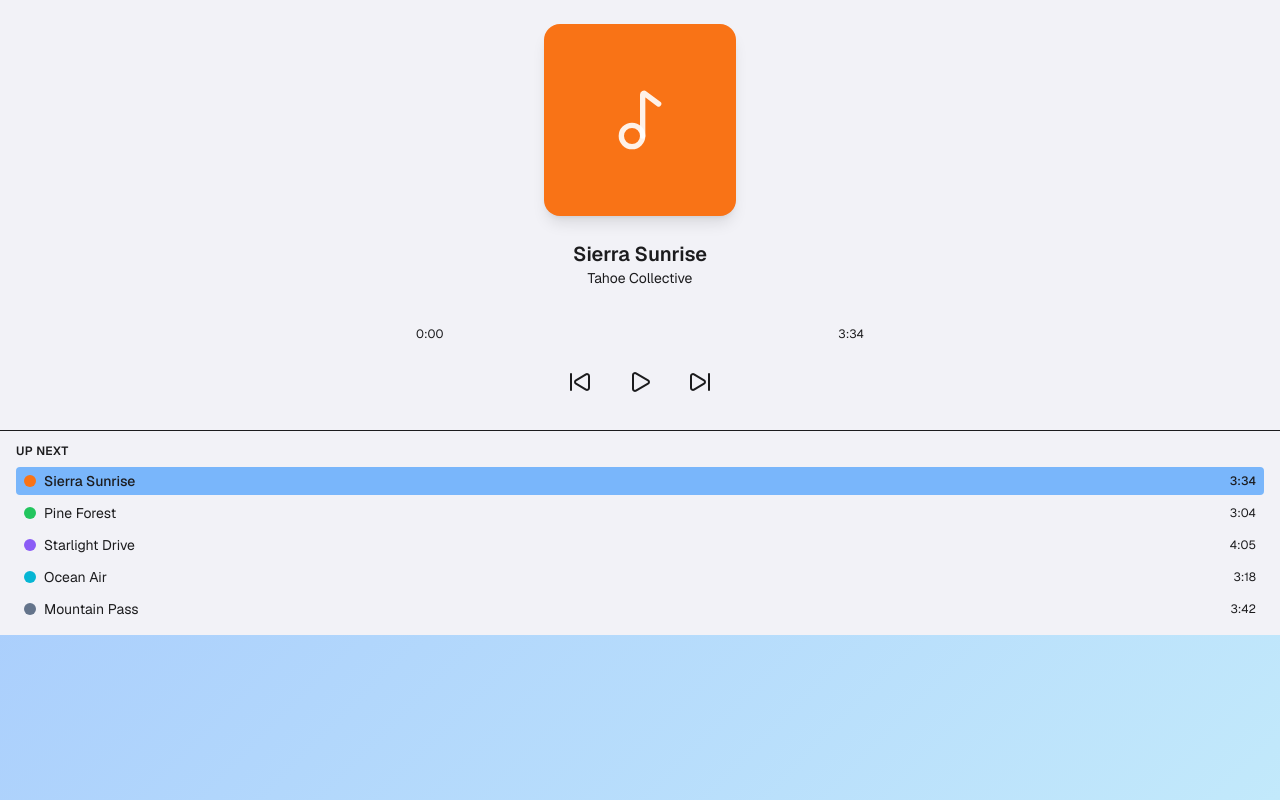
Test case: Music › skips to the previous track
Click the button with test id "music-prev" at (580, 382), box [560,362,600,402]
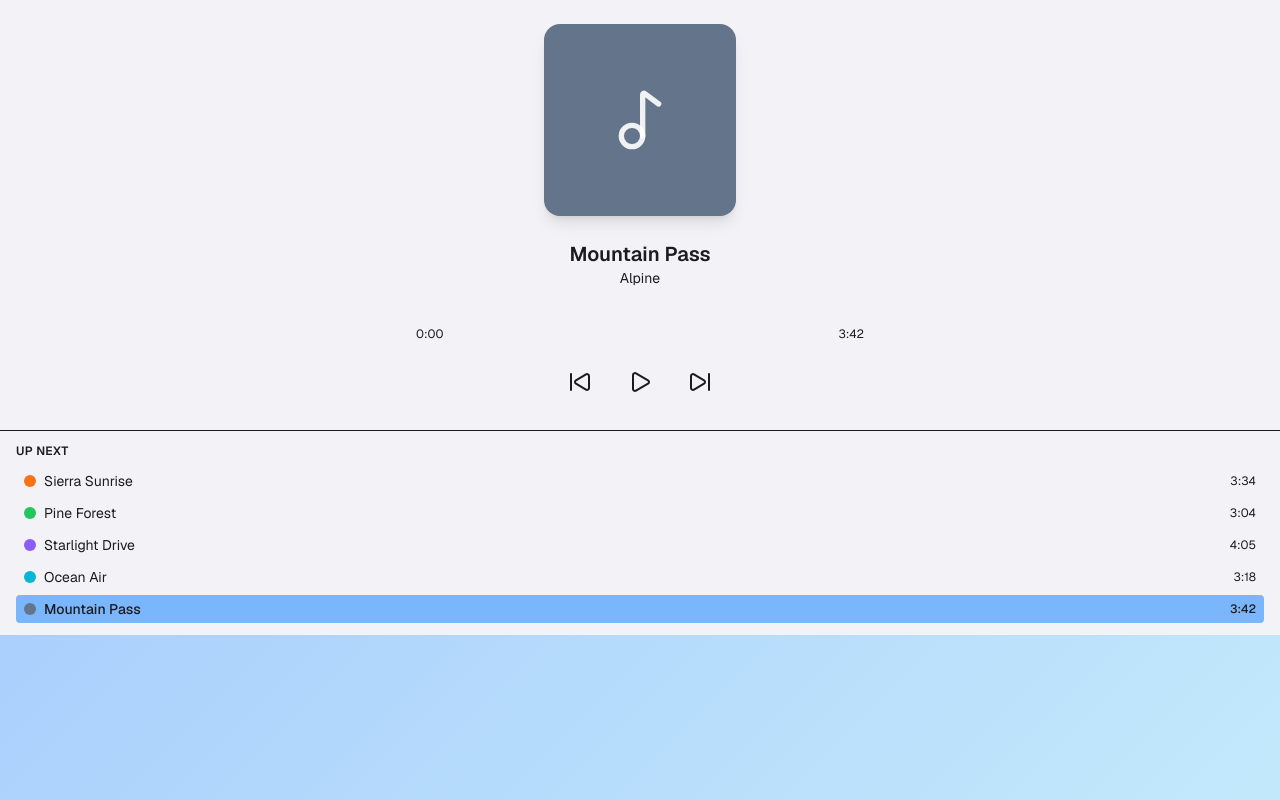
Check: the text with test id "music-title" reads "Mountain Pass", box [569,241,711,267]
